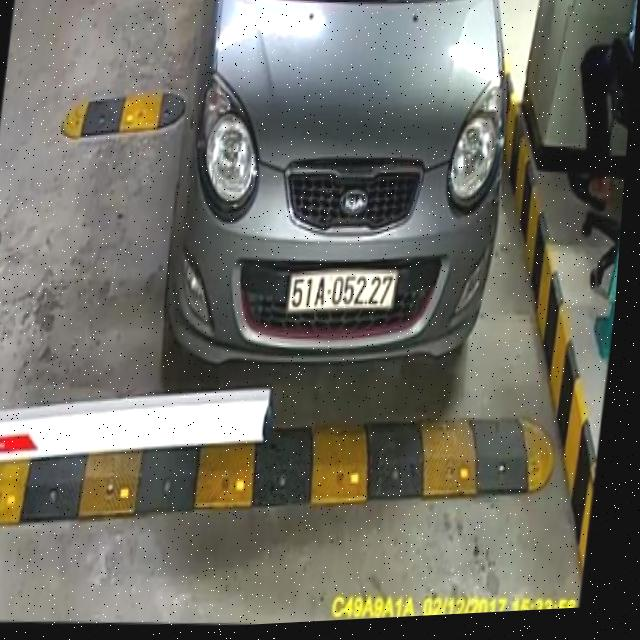car: (153, 0, 530, 391)
plate: (281, 264, 400, 317)
